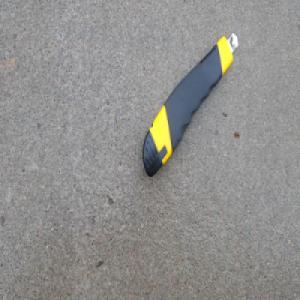Cutter: (141, 31, 238, 180)
